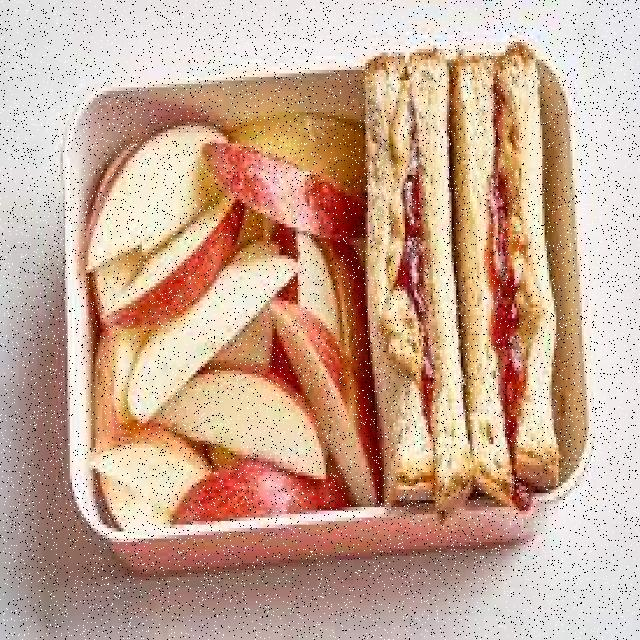Apple: (121, 254, 293, 396), (276, 308, 378, 501), (83, 120, 230, 244), (162, 369, 327, 478), (202, 138, 364, 239), (98, 230, 217, 332), (152, 465, 336, 520), (92, 429, 207, 502)
